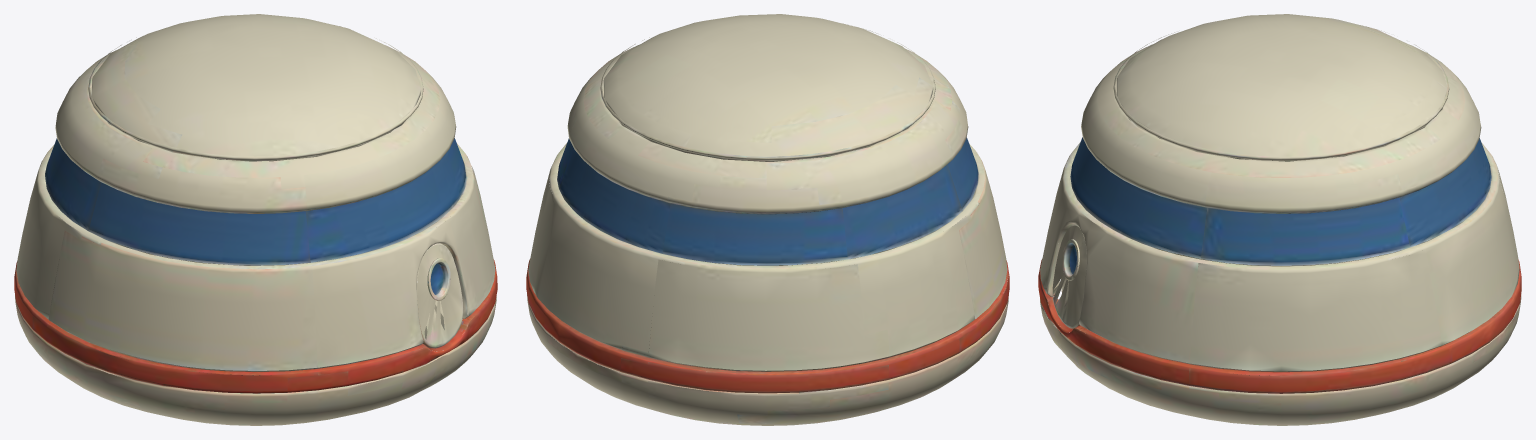
File: mars_hab_pod.glb
3 renders of one model, left to right at view 1: azimuth 30°, elevation 25°; view 2: azimuth 150°, elevation 25°; view 3: azimuth 270°, elevation 25°, orthographic.
Parts seen in each view (by area): view 1: mars_hab_pod; view 2: mars_hab_pod; view 3: mars_hab_pod.
Boxes of the visible parts, bbox=[...] form: mars_hab_pod: bbox=[14, 14, 497, 425]; mars_hab_pod: bbox=[526, 14, 1009, 425]; mars_hab_pod: bbox=[1038, 14, 1521, 425].
Bounding box in the file's own units: 8.49 × 6.22 × 8.5.
1 material, 1 textured.
